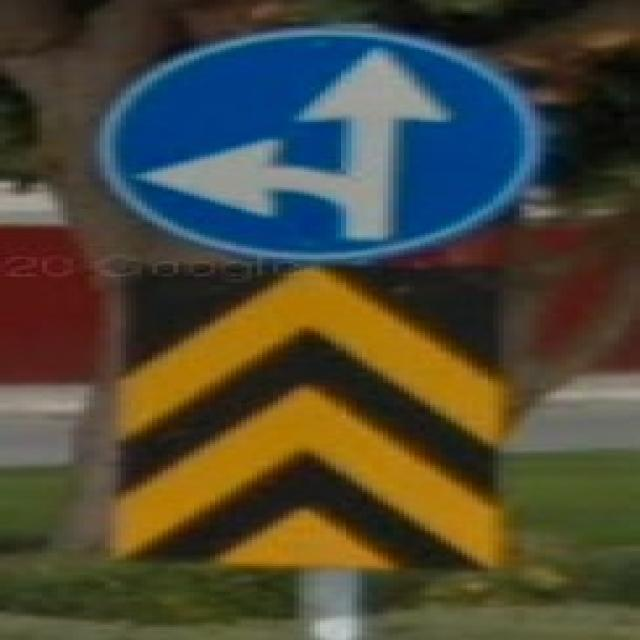Straight or Left: (98, 29, 539, 258)
